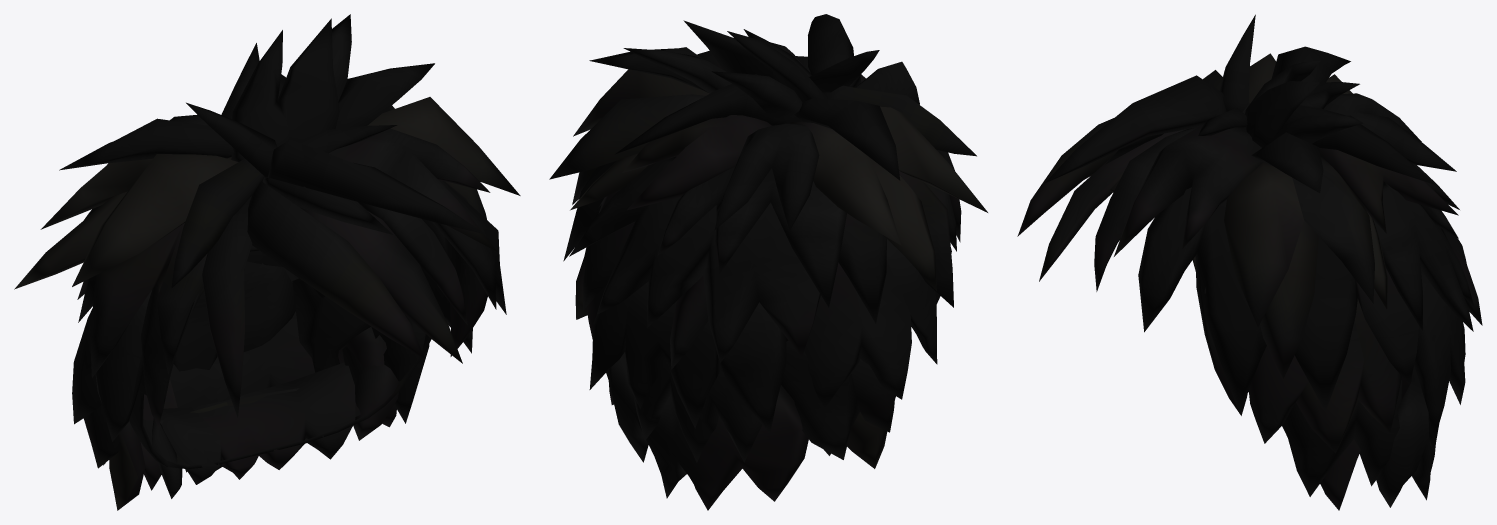
The model's file is Character04_Hair.fbx.
3 views of the same model, side by side, from view 1: azimuth 30°, elevation 25°; view 2: azimuth 150°, elevation 25°; view 3: azimuth 270°, elevation 25° (orthographic). The views are drawn at different scales.
Visible parts, largest first — view 1: Hair12, Hair18, Hair10, Hair14, Hair17, Hair21, Hair13, Hair2, Hair15, Hair3, Hair4, Hair19 (+8 smaller); view 2: Hair19, Hair4, Hair21, Hair6, Hair14, Hair2, Hair10, Hair3, Hair13, Hair9, Hair1, Hair18 (+7 smaller); view 3: Hair11, Hair3, Hair18, Hair19, Hair8, Hair15, Hair17, Hair6, Hair9, Hair16, Hair4, Hair7 (+7 smaller).
Boxes of the visible parts, x1,y1,x2,y2 form: Hair12: (161,102,355,484); Hair18: (231,18,497,251); Hair10: (40,154,238,427); Hair14: (14,181,424,358); Hair17: (202,196,429,423); Hair21: (72,261,295,441); Hair13: (59,118,264,287); Hair2: (78,114,208,377); Hair15: (267,125,485,234); Hair3: (129,97,520,469); Hair4: (83,311,314,490); Hair19: (77,208,462,363); Hair19: (569,74,865,363); Hair4: (607,340,895,510); Hair21: (633,239,937,462); Hair6: (589,281,786,433); Hair14: (657,61,936,307); Hair2: (714,123,956,323); Hair10: (790,106,987,303); Hair3: (549,69,709,179); Hair13: (794,85,976,180); Hair9: (570,71,802,210); Hair1: (622,115,771,210); Hair18: (683,20,827,102); Hair11: (1138,187,1419,413); Hair3: (1110,155,1374,436); Hair18: (1114,60,1320,256); Hair19: (1039,129,1474,331); Hair8: (1195,253,1401,453); Hair15: (1045,75,1247,182); Hair17: (1284,378,1402,496); Hair6: (1414,270,1465,442); Hair9: (1284,82,1434,308); Hair16: (1094,127,1360,510); Hair4: (1376,374,1435,507); Hair7: (1251,115,1363,193).
Bounding box in the file's own units: 69.03 × 69.28 × 66.71.
